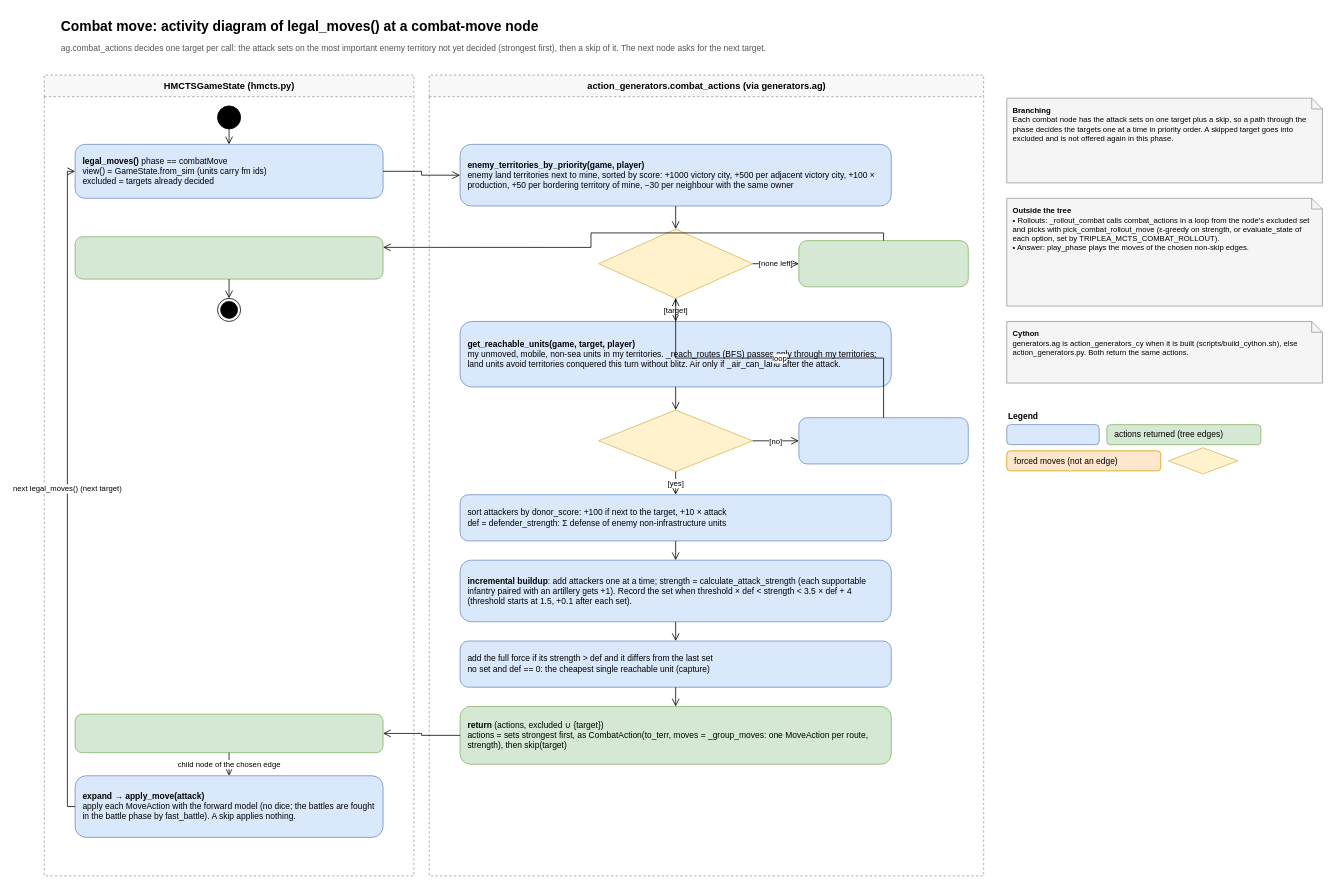
The diagram is 1336 pixels wide and 889 high, and some of its shapes have lost their labels. Each missing label, with the centre of its shape:
actions = [CombatAction(end_phase=True)] no_target → pass_phase: (228,257)
actions = returned list (one tree edge each): (228,733)
any attacker reaches it?: (675,440)
excluded.add(target) (pass over): (883,440)
guard: (1203,460)
next target not in excluded?: (675,263)
return ([], excluded): (883,263)
step: (1052,434)
